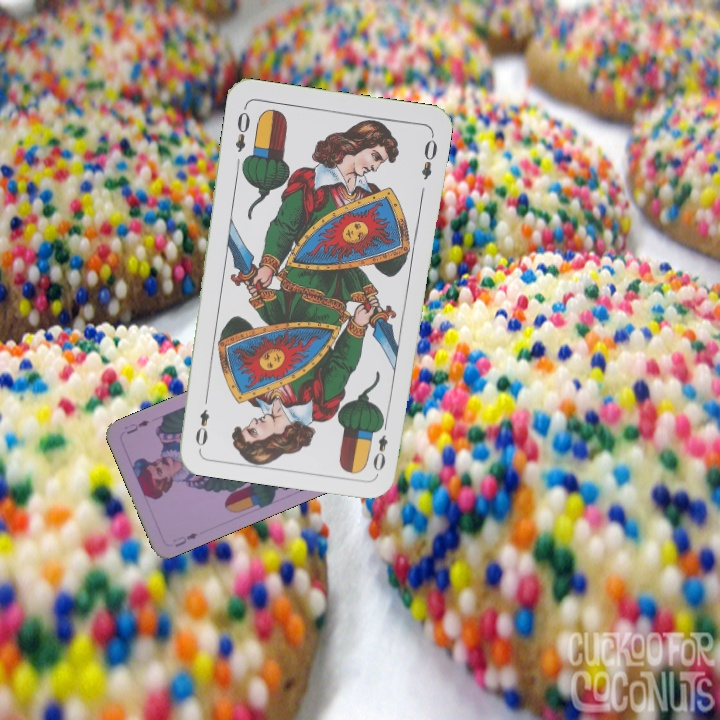EO: (369, 416, 391, 474), (231, 102, 253, 155)
EU: (169, 529, 201, 550)
